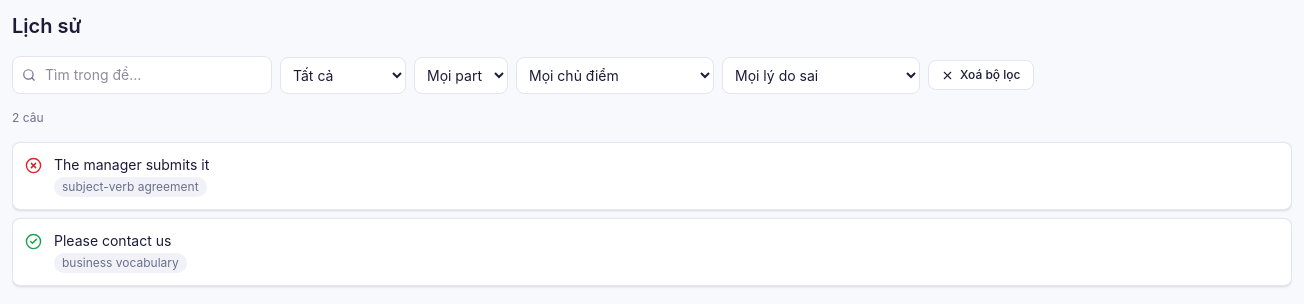
Test: History view › searches the question text
The width and height of the screenshot is (1304, 304).
Expected: the text "The manager submits it" is shown, [54,156,209,173]
Type "contact" into the field with placeholder "Tìm trong đề…" at x=142, y=75, box [12,56,272,94]
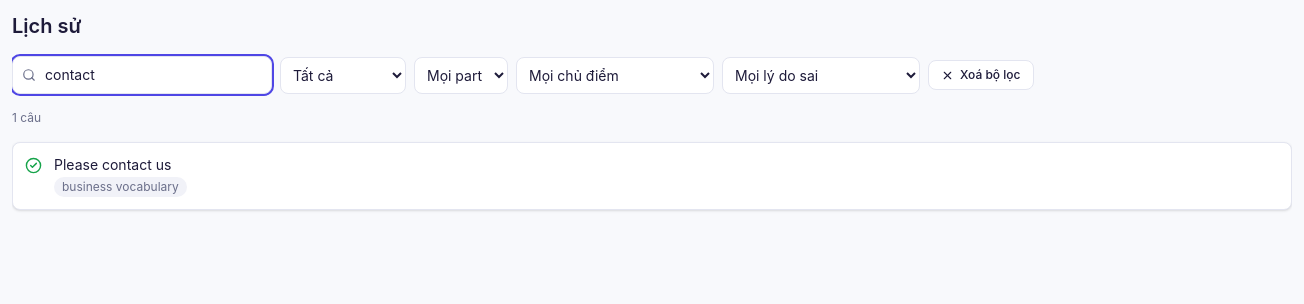
Expected: the text "Please contact us" is shown, [54,156,171,173]
Result: the button "The manager submits it" is gone
